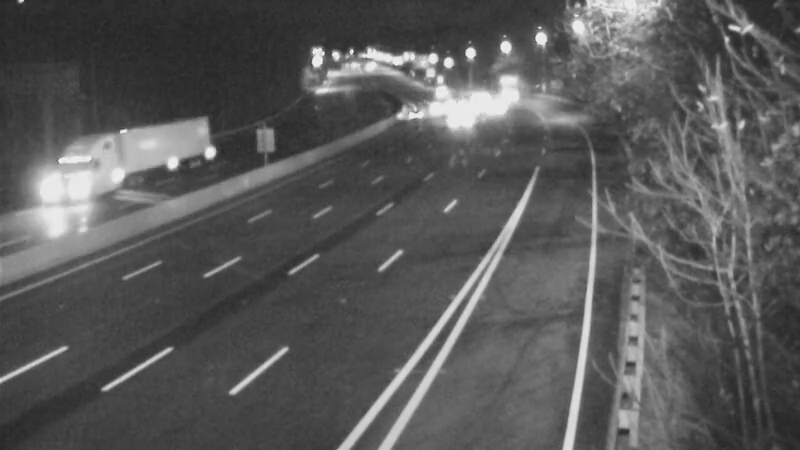vehicle: (89, 134, 169, 214), (483, 60, 533, 110), (453, 75, 503, 125), (417, 68, 467, 118), (463, 81, 513, 131), (438, 82, 488, 132), (434, 88, 484, 138), (392, 85, 442, 135)
